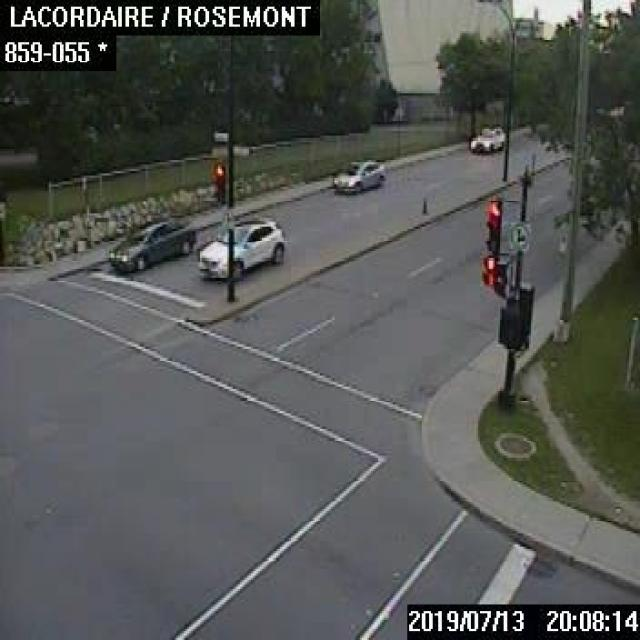vehicle: (198, 216, 283, 276), (107, 220, 194, 269), (332, 157, 384, 192), (469, 124, 505, 151)
